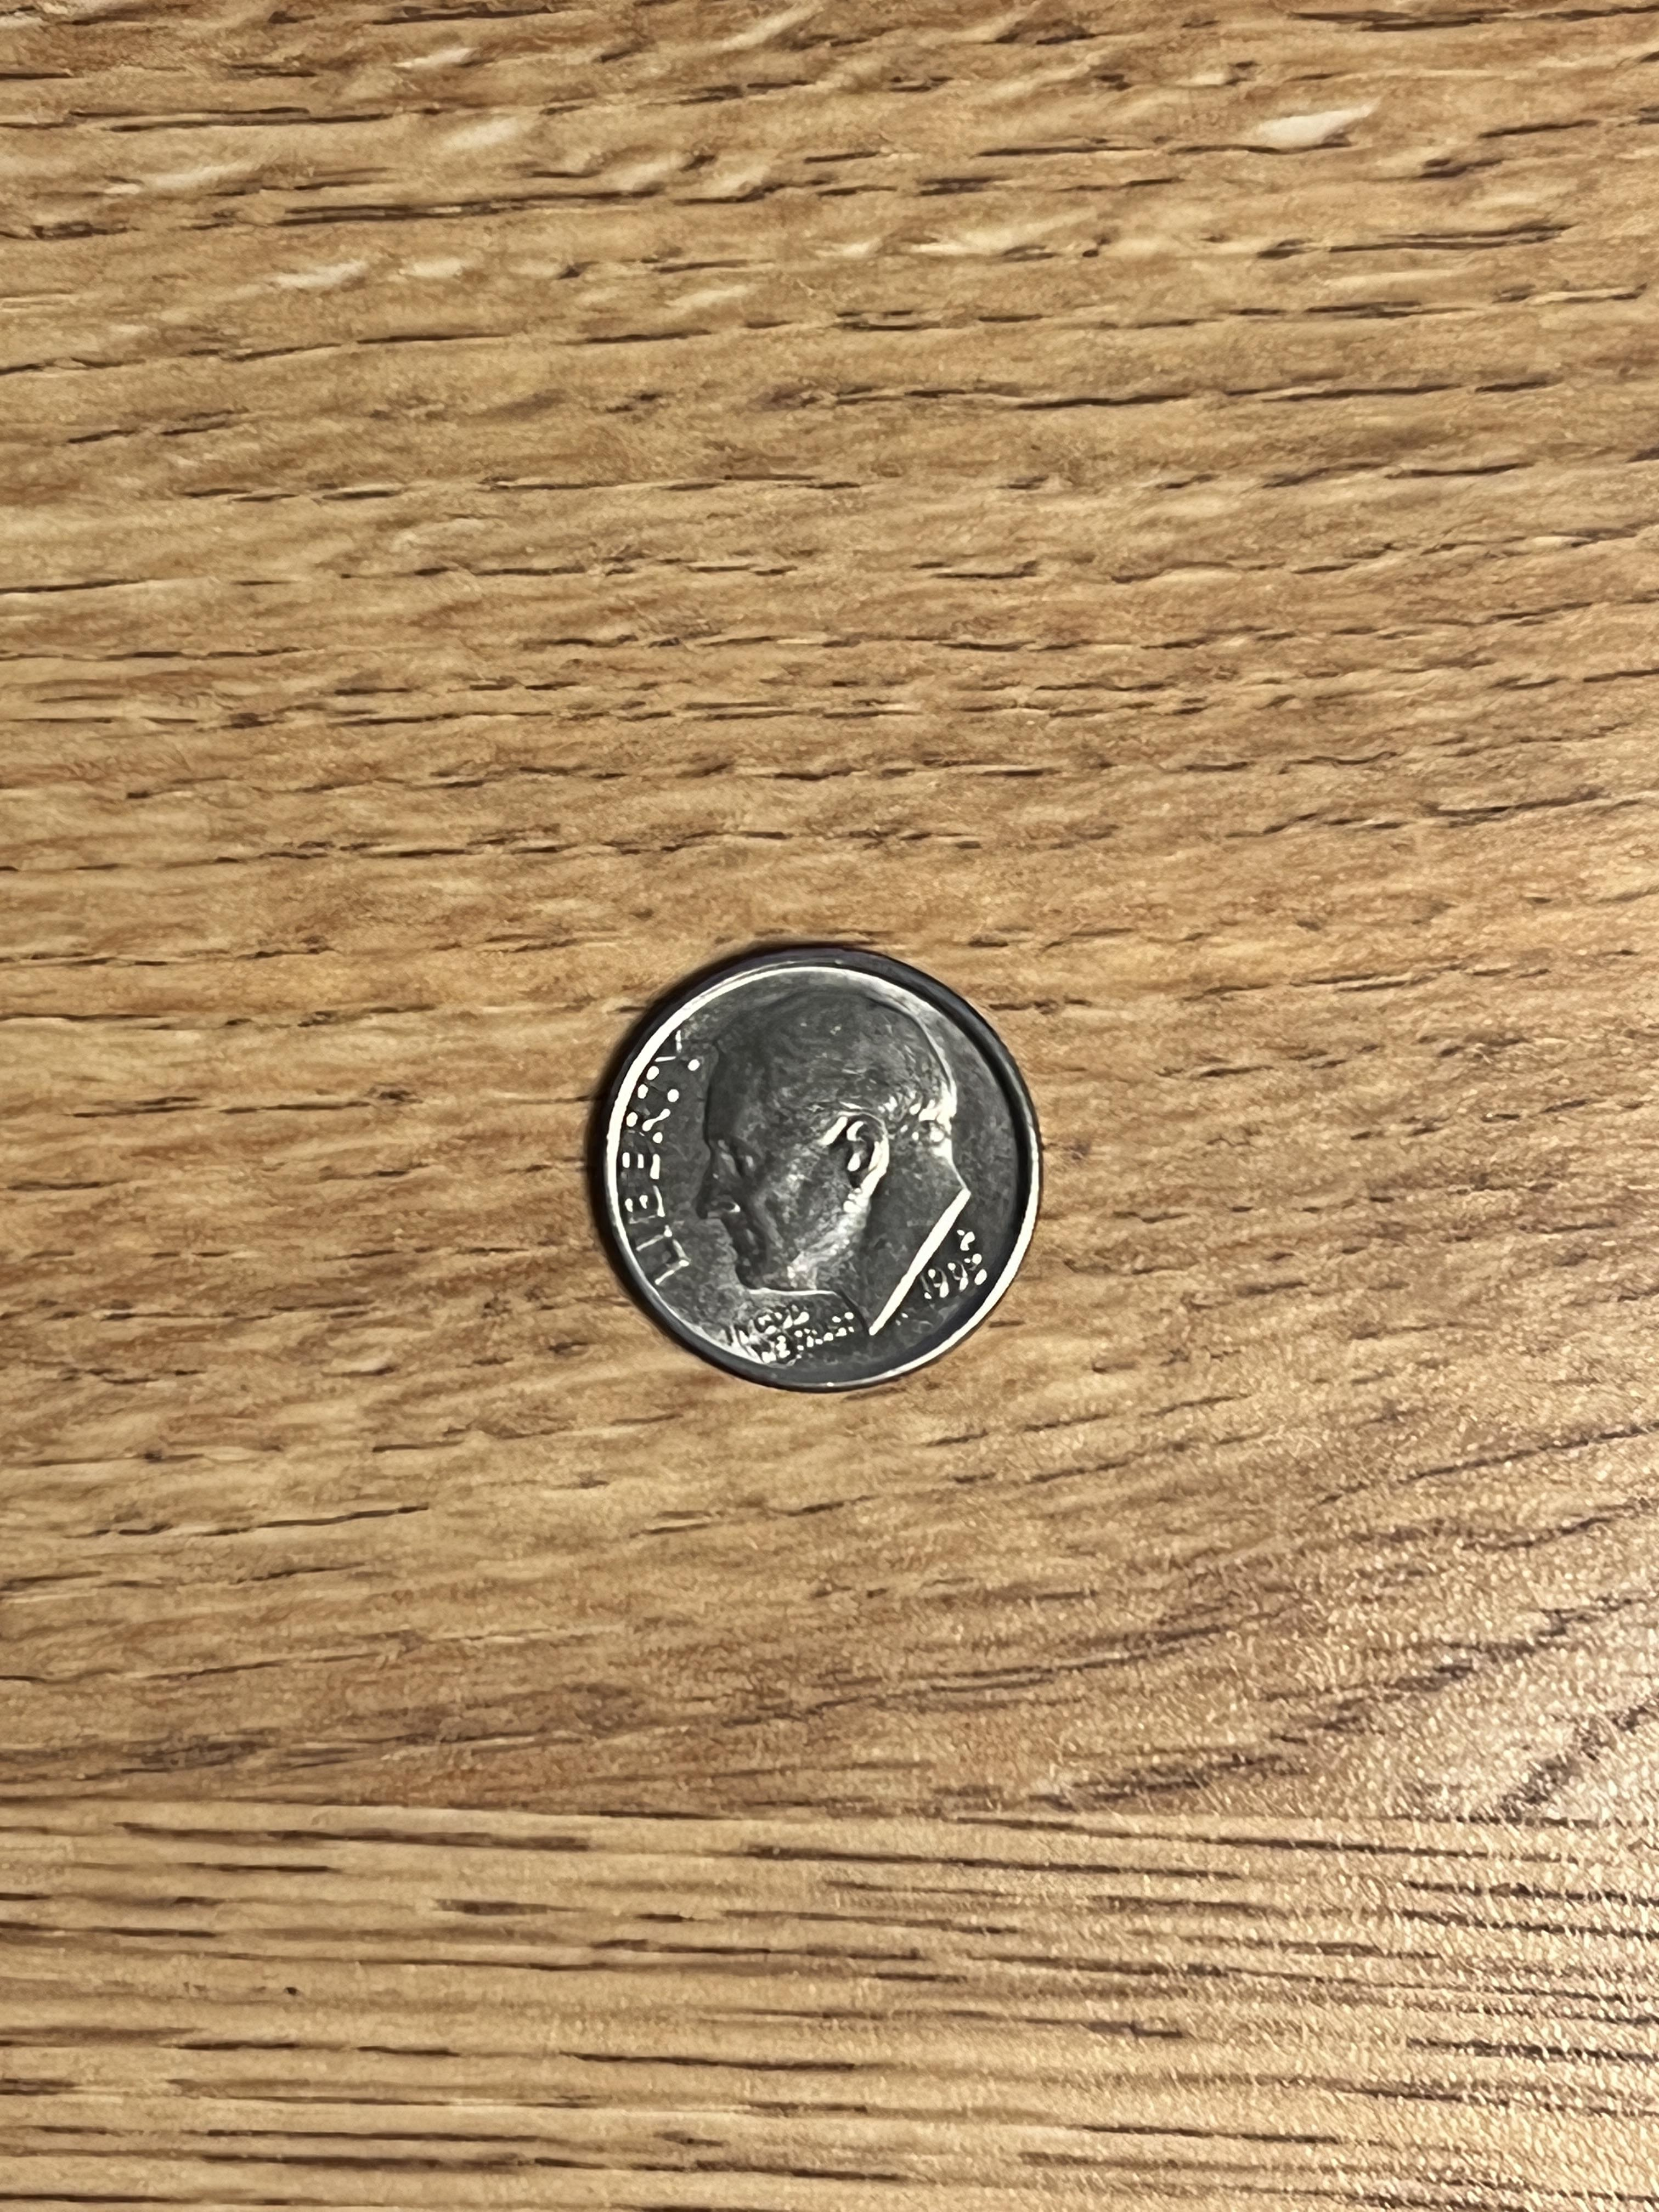Dime: (579, 920, 1089, 1430)
